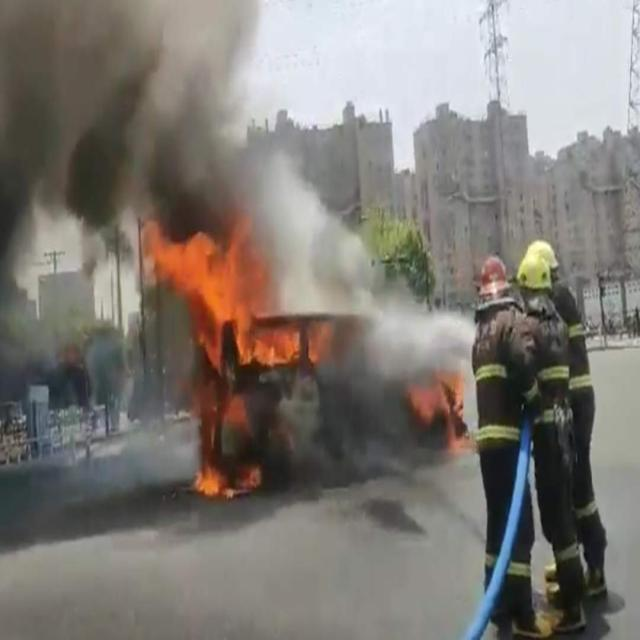fire: (144, 216, 336, 496), (407, 370, 468, 452)
smoke: (0, 0, 469, 376)
